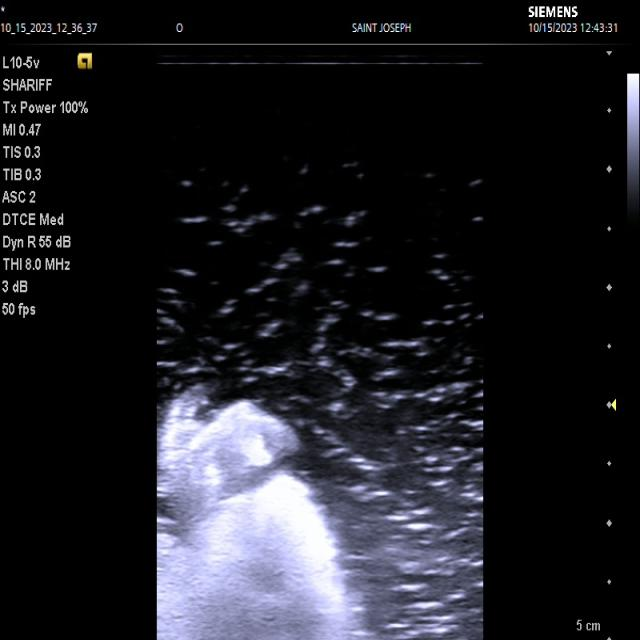tissue: (158, 386, 370, 640)
